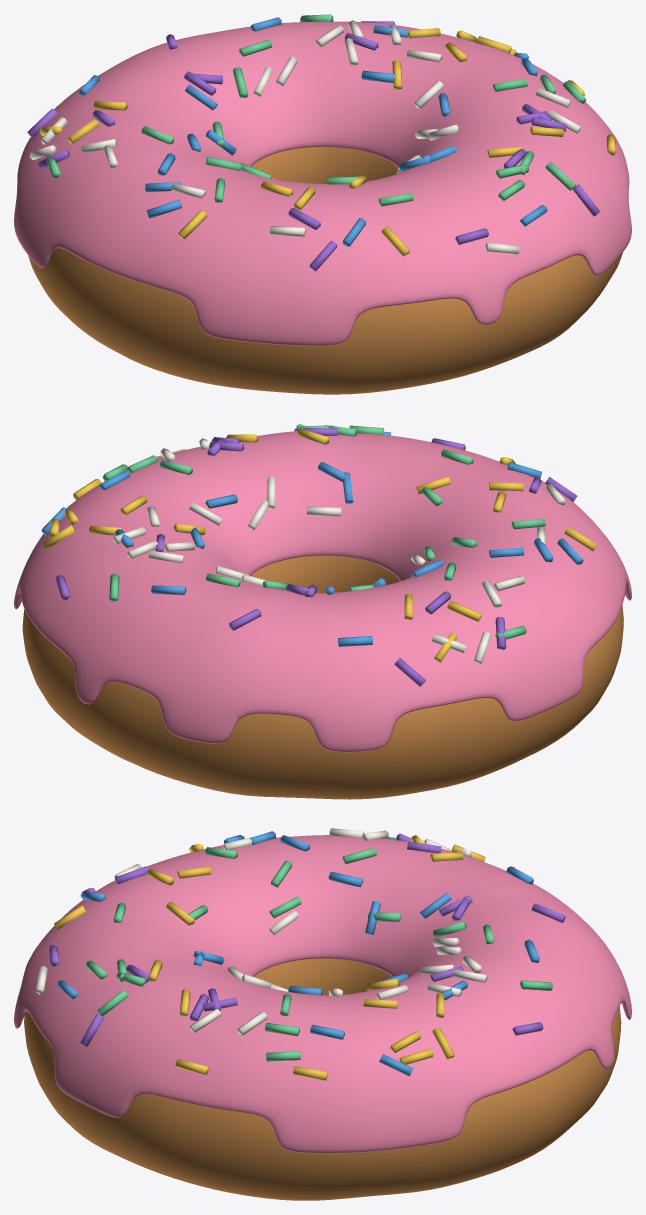
Rendered from donut.glb.
3 renders of one model, top to bottom at view 1: azimuth 30°, elevation 25°; view 2: azimuth 150°, elevation 25°; view 3: azimuth 270°, elevation 25°, orthographic. The views are drawn at different scales.
Visible parts, largest first — view 1: Donut_Icing, Donut_Dough, Donut_Sprinkles; view 2: Donut_Icing, Donut_Dough, Donut_Sprinkles; view 3: Donut_Icing, Donut_Dough, Donut_Sprinkles.
Part boxes in pixels (left/top/right/bottom): Donut_Icing: left=14, top=21, right=631, bottom=345; Donut_Dough: left=28, top=147, right=622, bottom=394; Donut_Sprinkles: left=27, top=14, right=615, bottom=271; Donut_Icing: left=14, top=431, right=631, bottom=752; Donut_Dough: left=22, top=555, right=623, bottom=799; Donut_Sprinkles: left=41, top=423, right=596, bottom=686; Donut_Icing: left=14, top=835, right=631, bottom=1153; Donut_Dough: left=24, top=958, right=621, bottom=1200; Donut_Sprinkles: left=35, top=828, right=565, bottom=1080.
Bounding box in the file's own units: 0.1 × 0.0333 × 0.1004.
